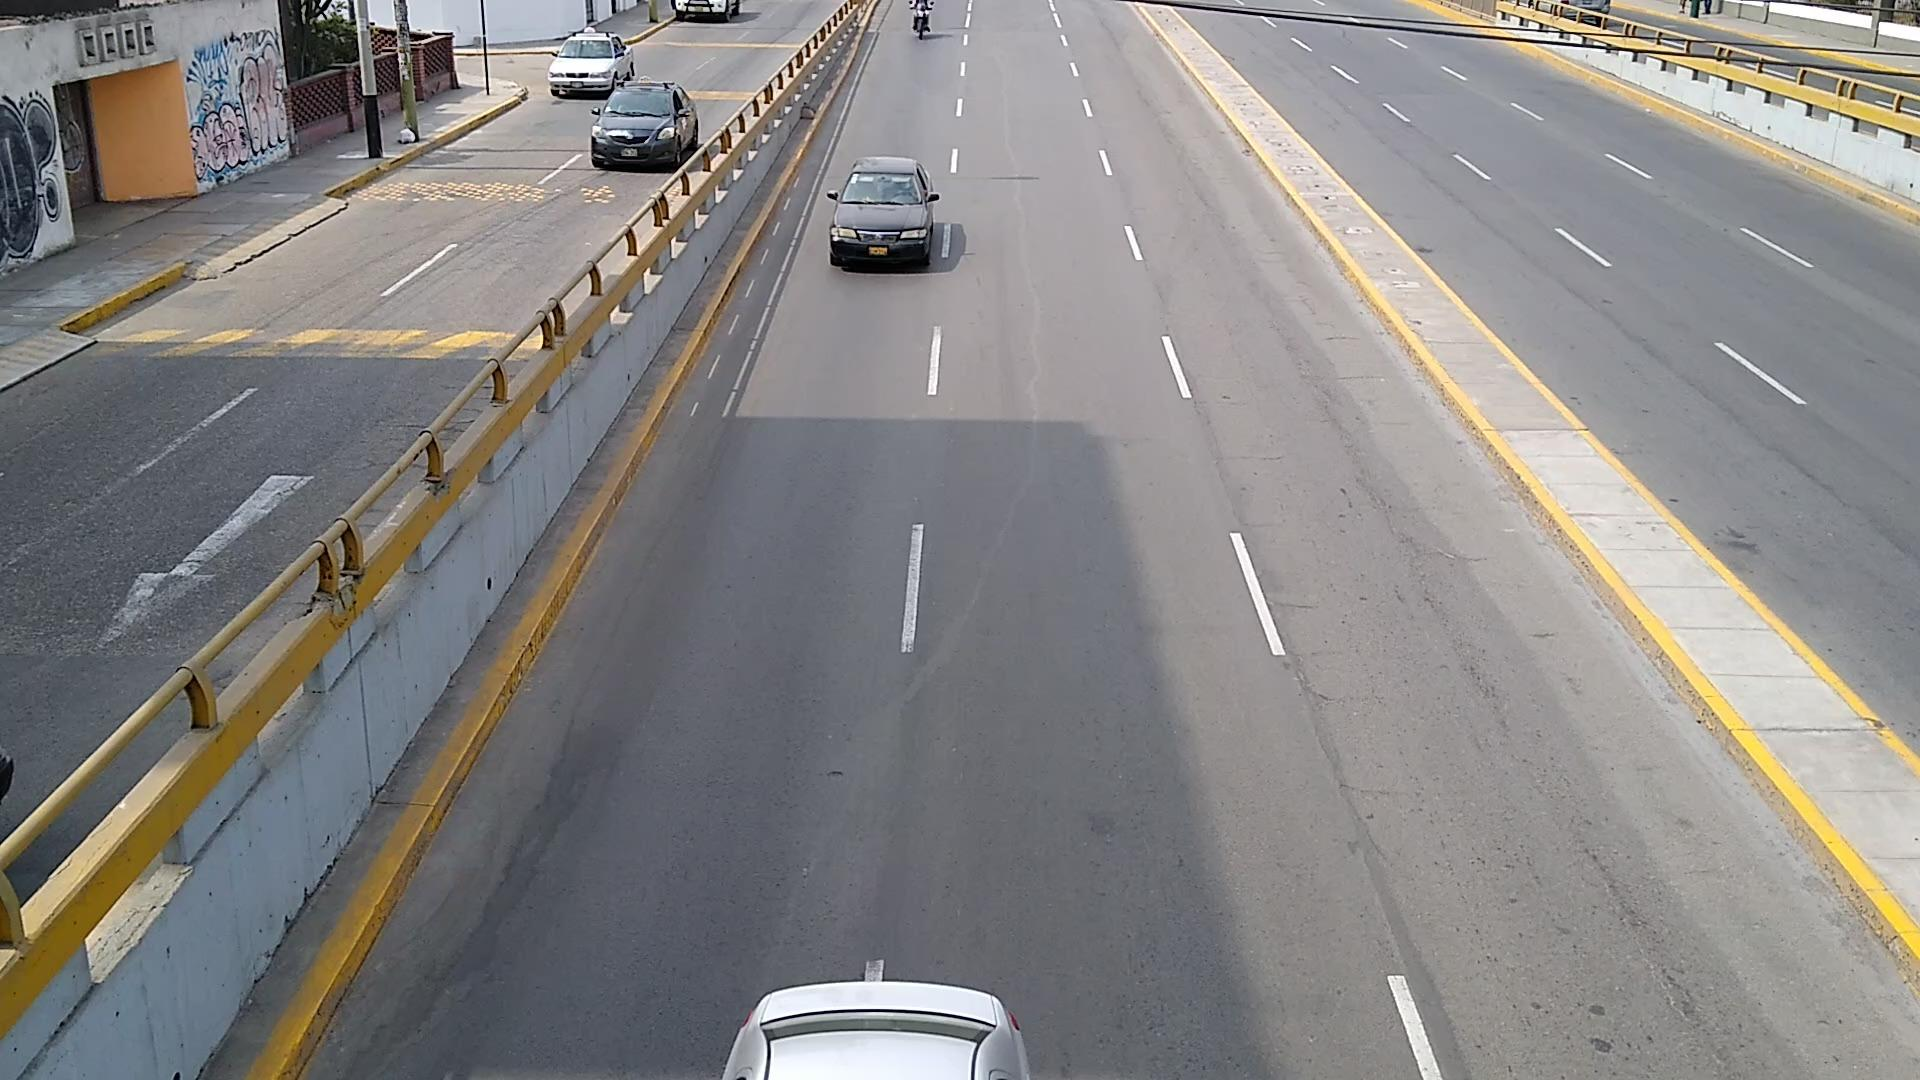car: (828, 157, 938, 266), (588, 83, 698, 169), (547, 30, 634, 92)
motorcyclist: (911, 0, 934, 37)
